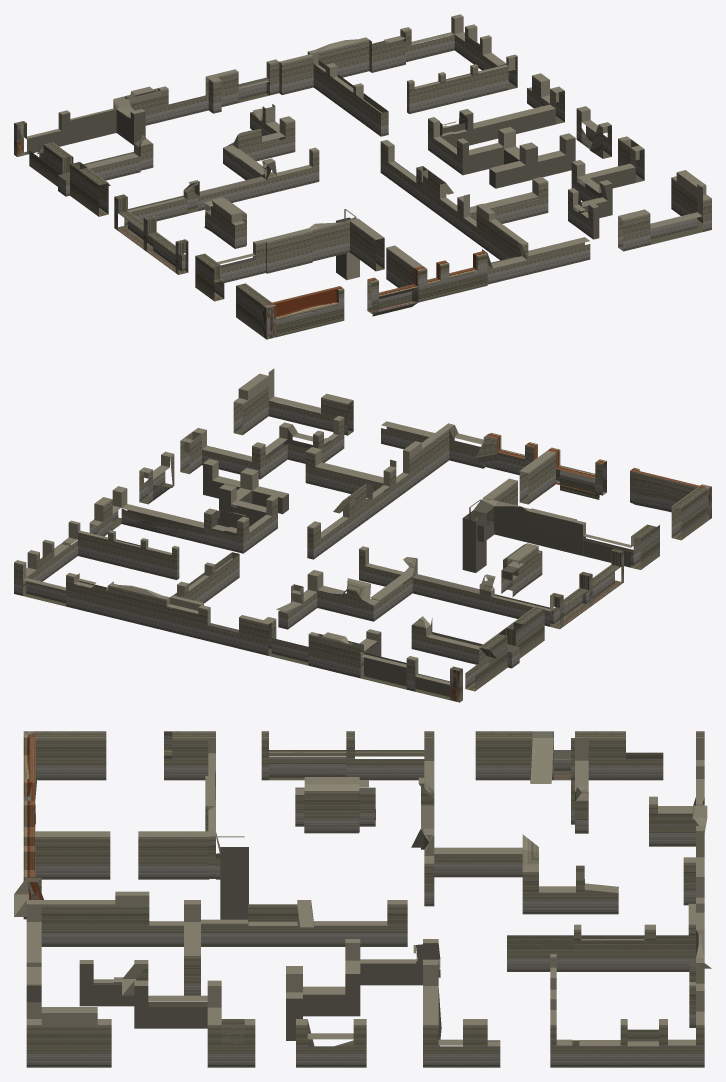
The model's file is Mur2_.glb.
3 views of the same model, one above another, from view 1: azimuth 30°, elevation 25°; view 2: azimuth 150°, elevation 25°; view 3: azimuth 270°, elevation 25° (orthographic). The views are drawn at different scales.
Visible parts, largest first — view 1: node_id5; view 2: node_id5; view 3: node_id5.
Boxes of the visible parts, x1,y1,x2,y2 form: node_id5: [14, 14, 711, 339]; node_id5: [14, 368, 711, 702]; node_id5: [14, 731, 711, 1067].
Size of the model in its own units: 1.9 by 0.3017 by 1.88.
Materials: 1 (1 with a texture image).
